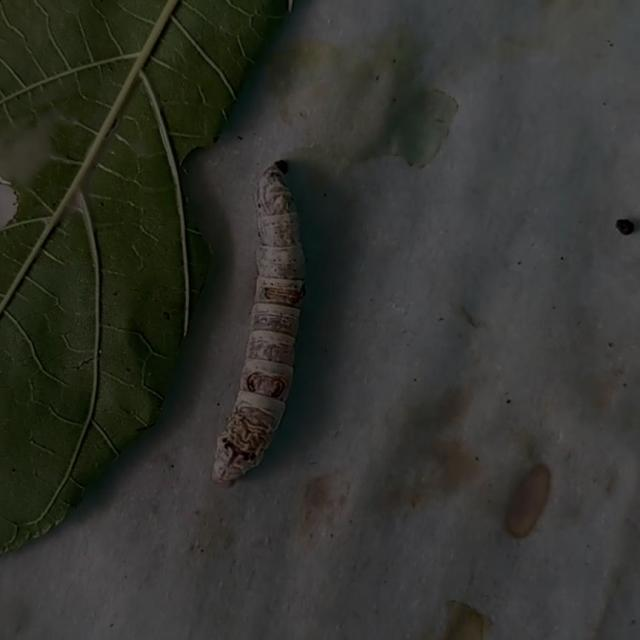Grasserie: (187, 138, 338, 499)
